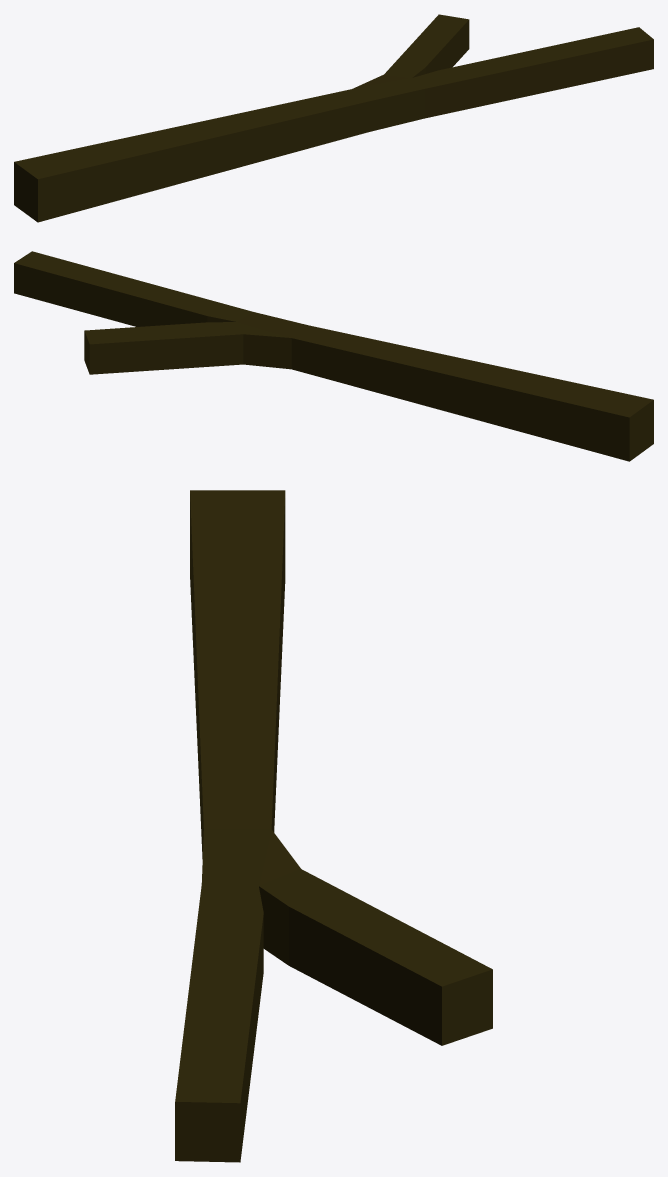
Rendered from Branch.fbx.
3 renders of one model, top to bottom at view 1: azimuth 30°, elevation 25°; view 2: azimuth 150°, elevation 25°; view 3: azimuth 270°, elevation 25°, orthographic. The views are drawn at different scales.
Parts seen in each view (by area): view 1: Cube; view 2: Cube; view 3: Cube.
Part boxes in pixels (x1=…): Cube: x1=14, y1=14, x2=653, y2=222; Cube: x1=14, y1=251, x2=653, y2=461; Cube: x1=175, y1=490, x2=492, y2=1162.
Size of the model in its own units: 348 by 23.41 by 77.93.
